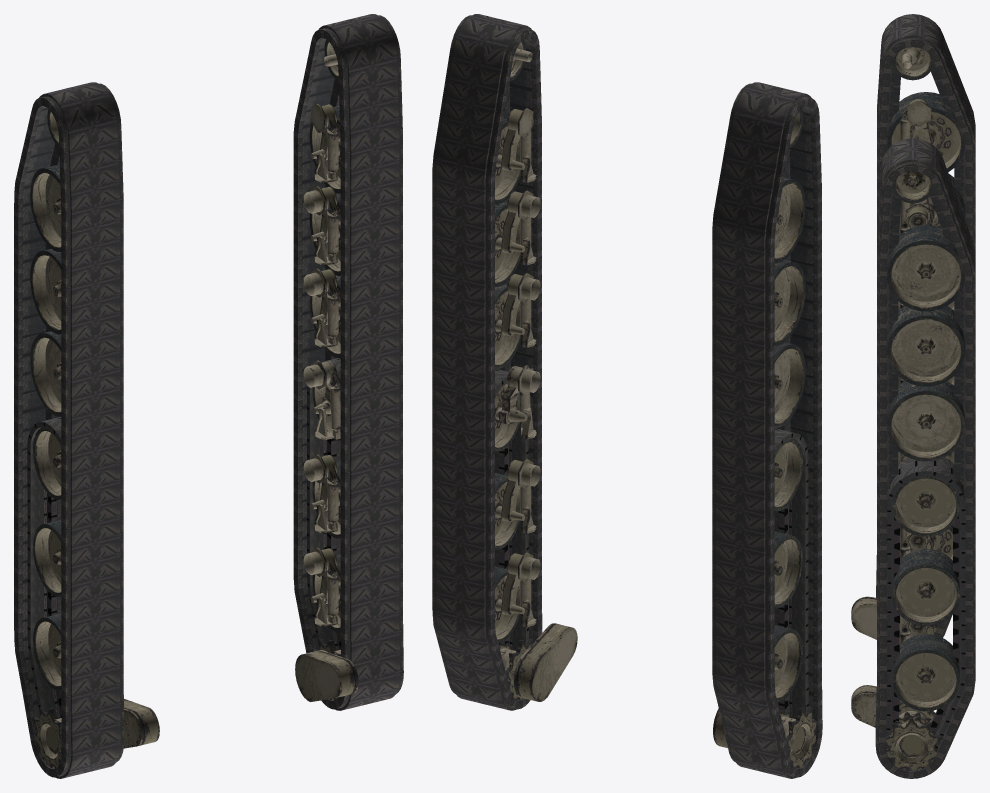
File: Chassis.glb
The picture shows the model from 3 angles, left to right: view 1: azimuth 30°, elevation 25°; view 2: azimuth 150°, elevation 25°; view 3: azimuth 270°, elevation 25°; orthographic projection. The views are drawn at different scales.
Parts seen in each view (by area): view 1: set_4_group_0, set_5_group_0, set_3_group_0, set_2_group_0, set_1_group_0, set_0_group_0; view 2: set_4_group_0, set_5_group_0, set_3_group_0, set_2_group_0, set_1_group_0, set_0_group_0; view 3: set_3_group_0, set_5_group_0, set_4_group_0, set_2_group_0, set_0_group_0.
Boxes of the visible parts, left/top/right/bottom form: set_4_group_0: left=14, top=82, right=124, bottom=778; set_5_group_0: left=293, top=14, right=403, bottom=710; set_3_group_0: left=295, top=39, right=358, bottom=701; set_2_group_0: left=30, top=109, right=159, bottom=768; set_1_group_0: left=27, top=417, right=61, bottom=719; set_0_group_0: left=307, top=358, right=340, bottom=650; set_4_group_0: left=712, top=82, right=822, bottom=778; set_5_group_0: left=432, top=14, right=542, bottom=710; set_3_group_0: left=495, top=39, right=577, bottom=701; set_2_group_0: left=713, top=109, right=816, bottom=768; set_1_group_0: left=774, top=428, right=808, bottom=718; set_0_group_0: left=495, top=369, right=528, bottom=650; set_3_group_0: left=851, top=171, right=965, bottom=771; set_5_group_0: left=875, top=138, right=975, bottom=778; set_4_group_0: left=876, top=14, right=975, bottom=637; set_2_group_0: left=851, top=47, right=965, bottom=645; set_0_group_0: left=886, top=457, right=965, bottom=760.
Size of the model in its own units: 3.49 by 6.72 by 1.22.
Materials: 6 (6 with a texture image).
